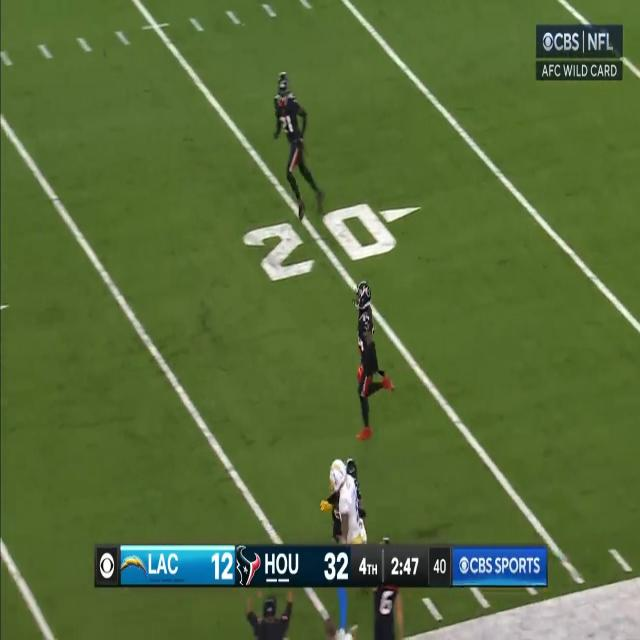Player: (275, 70, 320, 221), (358, 282, 385, 439), (330, 458, 366, 548)
